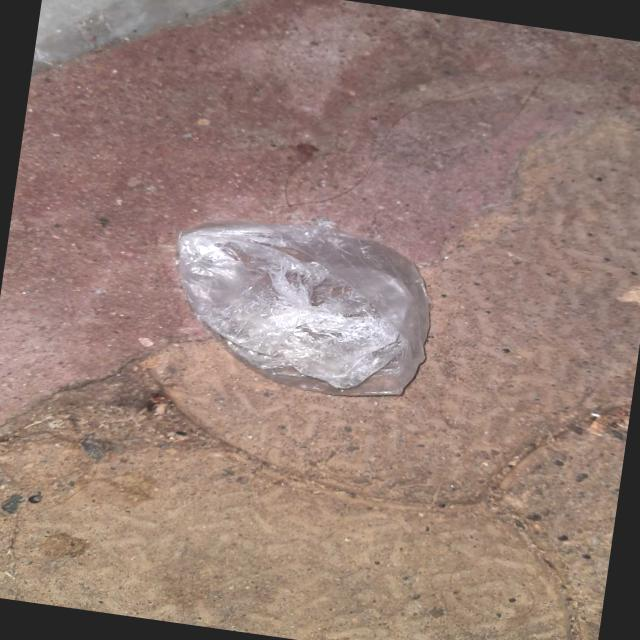nhua: (176, 220, 429, 396)
